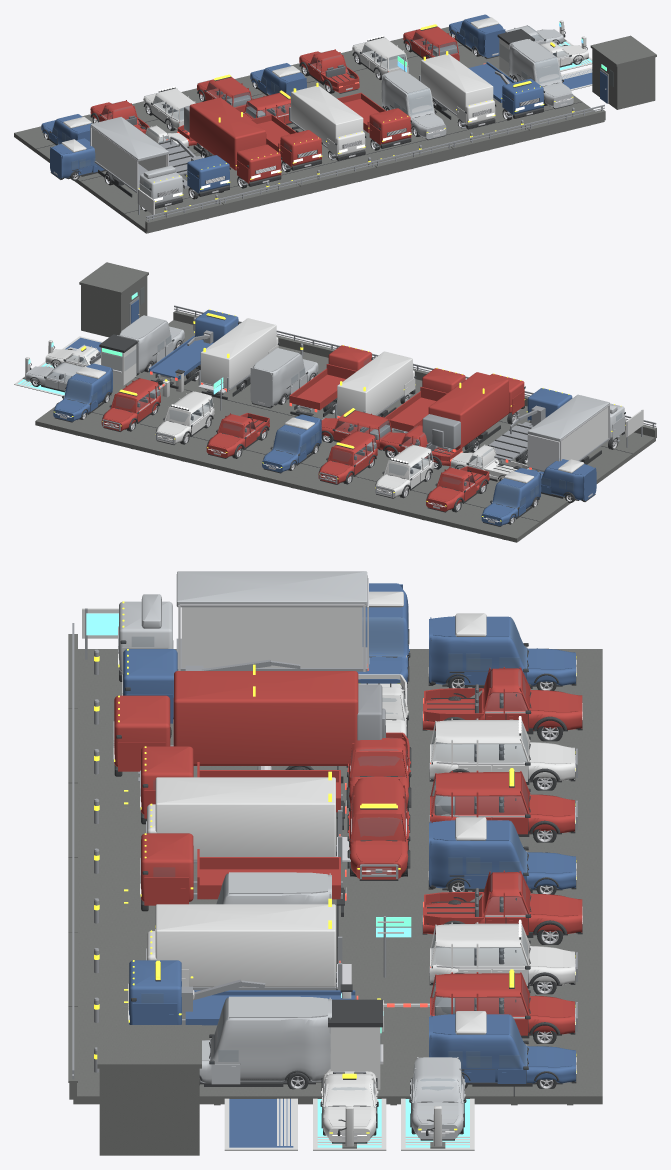
Rendered from car-park-and-road-vehicle-fleet-delivery-forecourt-6feba291__32561.glb.
The picture shows the model from 3 angles, top to bottom: view 1: azimuth 30°, elevation 25°; view 2: azimuth 150°, elevation 25°; view 3: azimuth 270°, elevation 25°; orthographic projection. The views are drawn at different scales.
Parts seen in each view (by area): view 1: 026-refuse-truck/3, 074-exit-stair-core/0, 028-luton-box-van/3, 031-luton-box-van/3, 024-curtainside-truck/3, 030-high-roof-van/0, 033-high-roof-van/0, 012-deck-slab/0, 024-curtainside-truck/24, 016-deck-slab/0, 015-deck-slab/0, 014-deck-slab/0 (+51 smaller); view 2: 074-exit-stair-core/0, 026-refuse-truck/3, 031-luton-box-van/3, 028-luton-box-van/3, 000-deck-slab/0, 002-deck-slab/0, 030-high-roof-van/0, 004-deck-slab/0, 024-curtainside-truck/3, 003-deck-slab/0, 033-high-roof-van/0, 001-deck-slab/0 (+40 smaller); view 3: 026-refuse-truck/3, 031-luton-box-van/3, 028-luton-box-van/3, 074-exit-stair-core/0, 024-curtainside-truck/24, 024-curtainside-truck/3, 033-high-roof-van/0, 038-camper-van/0, 034-camper-van/0, 009-deck-slab/0, 015-deck-slab/0, 036-ladder-frame-4x4/0 (+65 smaller).
Part boxes in pixels (box(x1,y1,x2,y2)): 026-refuse-truck/3: box(189, 97, 280, 181); 074-exit-stair-core/0: box(590, 35, 656, 109); 028-luton-box-van/3: box(291, 86, 365, 155); 031-luton-box-van/3: box(421, 54, 494, 124); 024-curtainside-truck/3: box(90, 117, 182, 204); 030-high-roof-van/0: box(381, 70, 446, 139); 033-high-roof-van/0: box(509, 39, 573, 108); 012-deck-slab/0: box(102, 187, 222, 233); 024-curtainside-truck/24: box(92, 128, 167, 190); 016-deck-slab/0: box(431, 112, 528, 158); 015-deck-slab/0: box(354, 130, 451, 177); 014-deck-slab/0: box(281, 144, 375, 196); 074-exit-stair-core/0: box(79, 262, 148, 337); 026-refuse-truck/3: box(428, 372, 524, 448); 031-luton-box-van/3: box(200, 318, 278, 388); 028-luton-box-van/3: box(337, 351, 414, 416); 000-deck-slab/0: box(436, 486, 563, 542); 002-deck-slab/0: box(276, 446, 387, 503); 030-high-roof-van/0: box(250, 348, 318, 406); 004-deck-slab/0: box(115, 407, 220, 464); 024-curtainside-truck/3: box(527, 394, 624, 441); 003-deck-slab/0: box(195, 432, 321, 483); 033-high-roof-van/0: box(118, 315, 184, 373); 001-deck-slab/0: box(356, 472, 444, 522); 026-refuse-truck/3: box(114, 671, 358, 766); 031-luton-box-van/3: box(147, 904, 335, 987); 028-luton-box-van/3: box(147, 777, 335, 860); 074-exit-stair-core/0: box(97, 1025, 201, 1155); 024-curtainside-truck/24: box(181, 607, 362, 667); 024-curtainside-truck/3: box(118, 571, 367, 671); 033-high-roof-van/0: box(199, 996, 331, 1082); 038-camper-van/0: box(429, 820, 575, 889); 034-camper-van/0: box(429, 616, 575, 685); 009-deck-slab/0: box(332, 872, 425, 947); 015-deck-slab/0: box(78, 872, 217, 947); 036-ladder-frame-4x4/0: box(430, 718, 574, 781).
Size of the model in its own units: 41.7 by 4.16 by 18.16.
15 materials, 1 textured.
